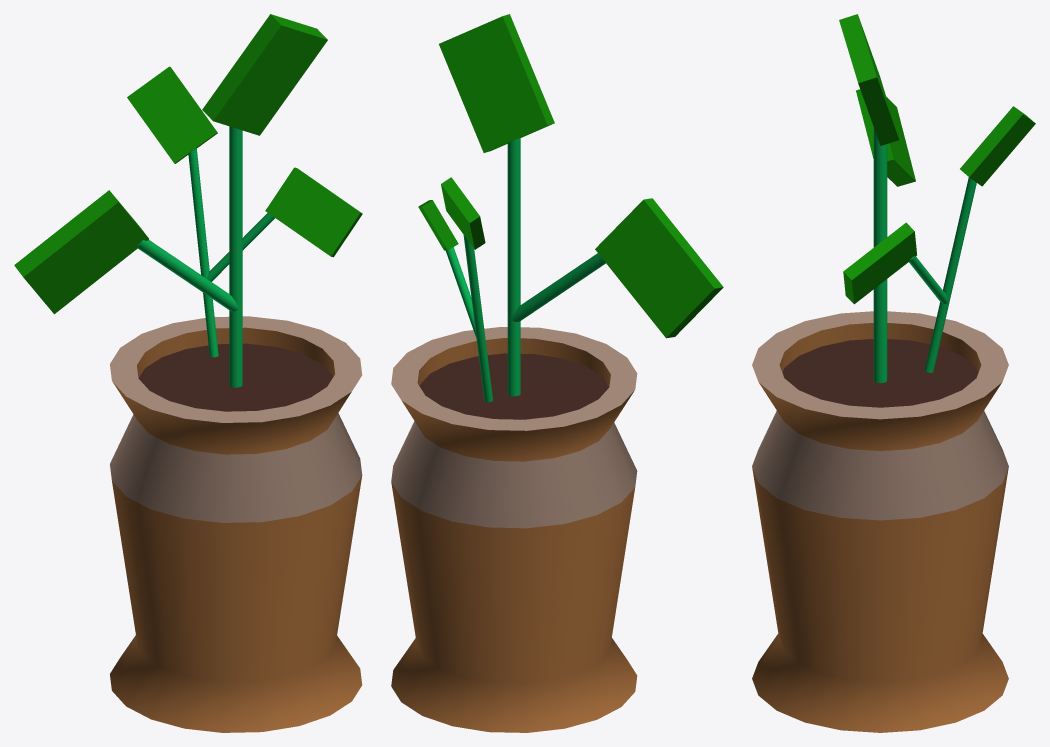
File: Potted_Plant.fbx
3 views of the same model, side by side, from view 1: azimuth 30°, elevation 25°; view 2: azimuth 150°, elevation 25°; view 3: azimuth 270°, elevation 25° (orthographic). The views are drawn at different scales.
Visible parts, largest first — view 1: pCylinder3; view 2: pCylinder3; view 3: pCylinder3.
Part boxes in pixels (left/top/right/bottom): pCylinder3: left=14, top=14, right=362, bottom=732; pCylinder3: left=391, top=14, right=723, bottom=732; pCylinder3: left=752, top=14, right=1035, bottom=732.
Size of the model in its own units: 4.84 by 9.47 by 3.6.
